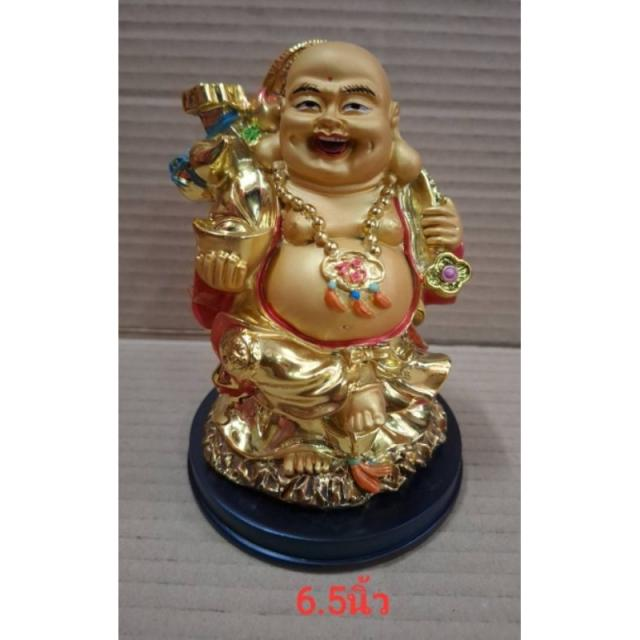Smiling Buddha: (169, 29, 474, 499)
